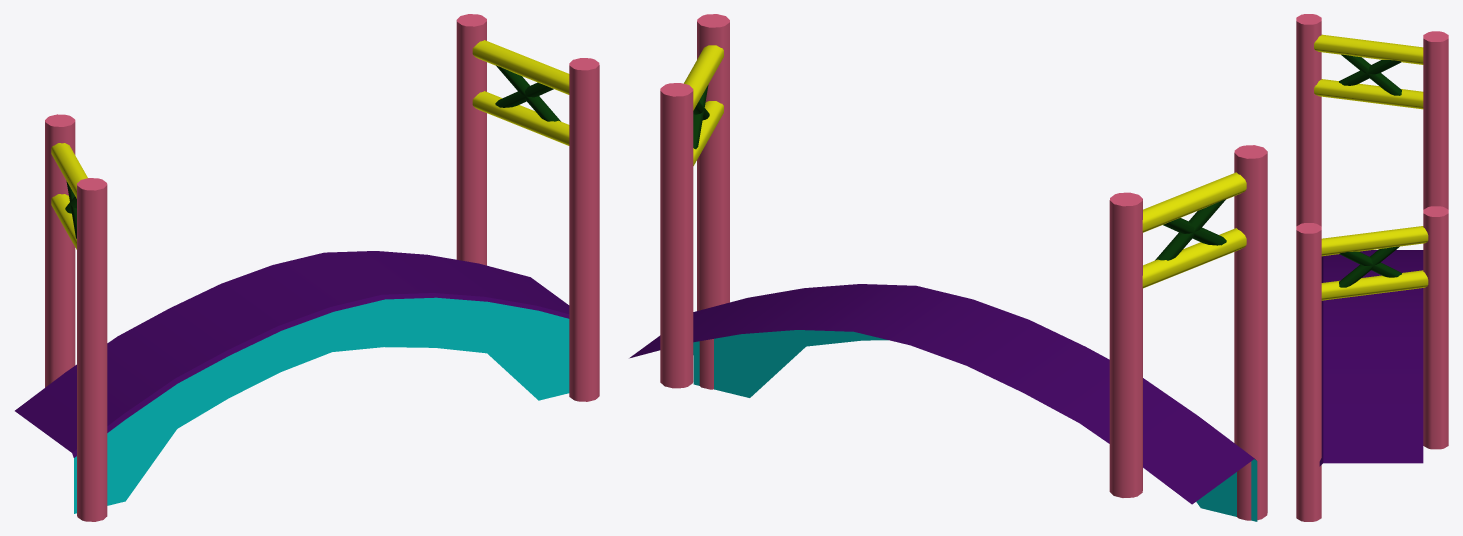
Rendered from Steel Bridge.fbx.
3 views of the same model, side by side, from view 1: azimuth 30°, elevation 25°; view 2: azimuth 150°, elevation 25°; view 3: azimuth 270°, elevation 25° (orthographic). The views are drawn at different scales.
Visible parts, largest first — view 1: Steel_Bridge, Steel_Bridge_Beams; view 2: Steel_Bridge_Beams, Steel_Bridge; view 3: Steel_Bridge_Beams, Steel_Bridge.
Boxes of the visible parts, x1,y1,x2,y2 form: Steel_Bridge: [15, 251, 569, 513]; Steel_Bridge_Beams: [45, 14, 599, 521]; Steel_Bridge_Beams: [660, 14, 1267, 520]; Steel_Bridge: [629, 284, 1257, 521]; Steel_Bridge_Beams: [1296, 14, 1448, 521]; Steel_Bridge: [1319, 250, 1423, 466].
Size of the model in its own units: 10.02 by 6.14 by 2.94.
